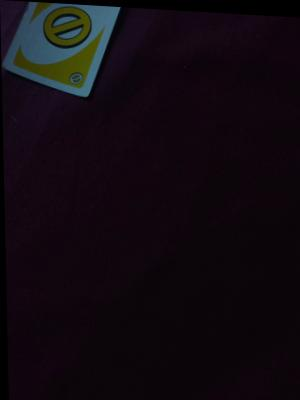skip: (66, 68, 86, 86)
yellow: (31, 10, 94, 81)
